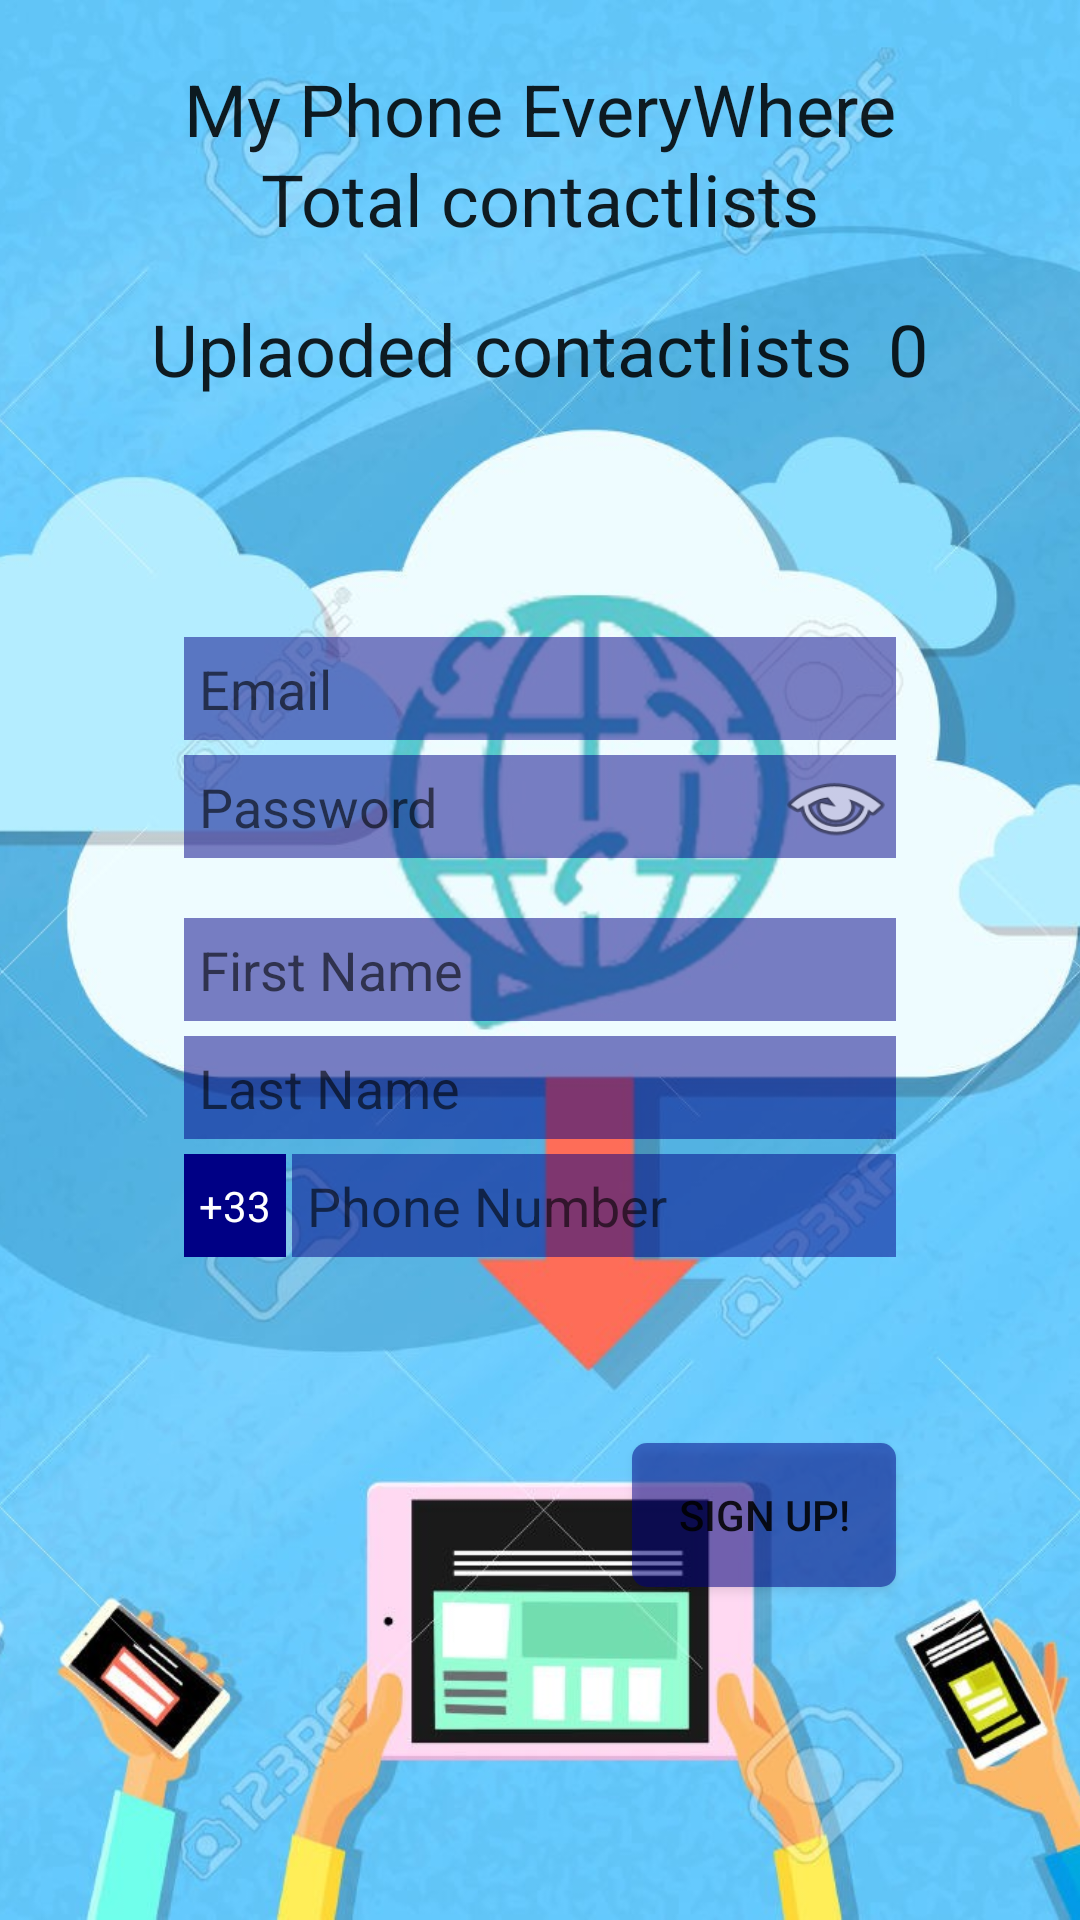

Locate icon controls on the screen. Image size 1080w x 1920h, boxes as (x1, y1, x2, y2).
view: (776, 755, 896, 858)
